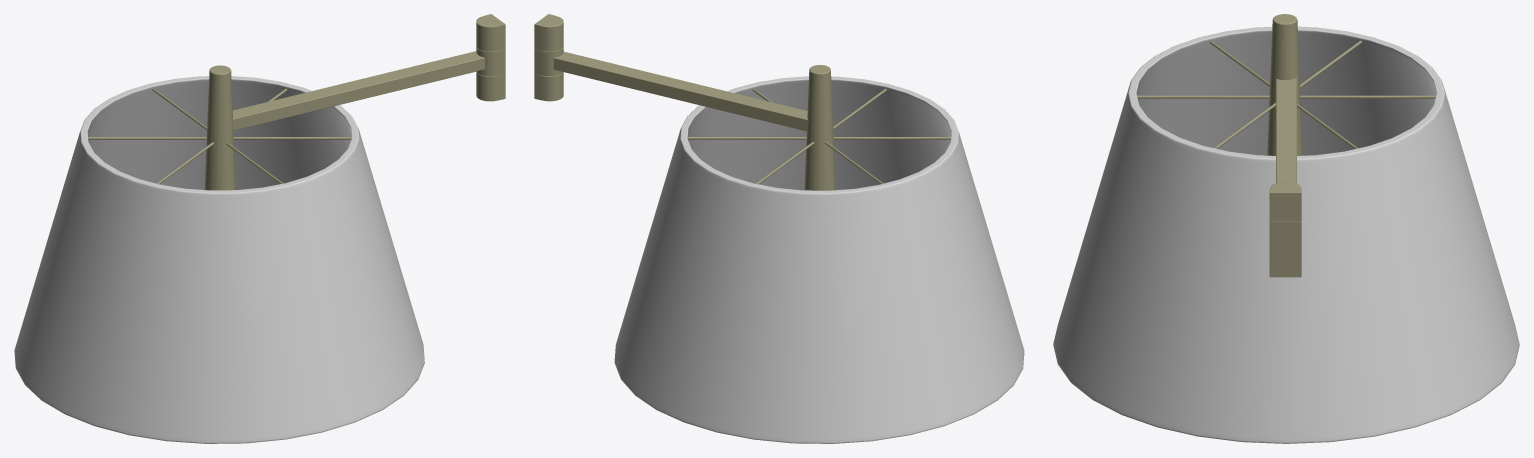
File: smoking_wallLight.fbx
3 views of the same model, side by side, from view 1: azimuth 30°, elevation 25°; view 2: azimuth 150°, elevation 25°; view 3: azimuth 270°, elevation 25° (orthographic). The views are drawn at different scales.
Parts seen in each view (by area): view 1: polySurface15; view 2: polySurface15; view 3: polySurface15.
Boxes of the visible parts, x1,y1,x2,y2 form: polySurface15: (14,14,505,443); polySurface15: (534,14,1024,443); polySurface15: (1053,14,1519,443).
Bounding box in the file's own units: 9.89 × 5.96 × 7.71.
